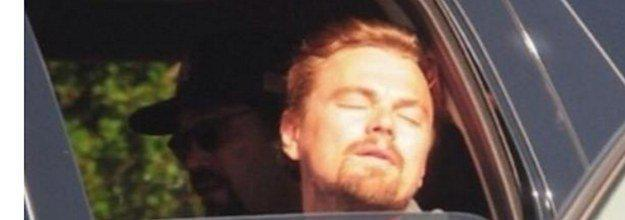Drunk: (324, 50, 432, 201)
